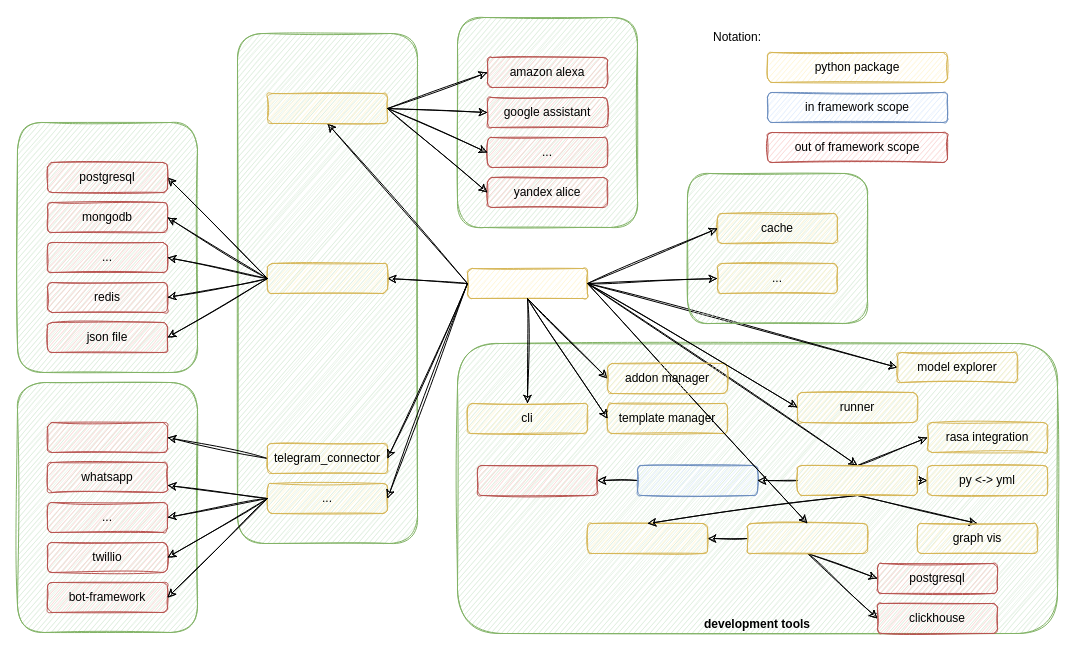
This 1075x651 diagram has some shape labels left out. The box of each missing label's shape, as (x1, y1, x2, y2) in pixels:
dashboard: (586, 522, 708, 554)
database for dialog context: (16, 122, 198, 372)
db_connector: (266, 262, 388, 294)
df designer: (636, 464, 758, 496)
dialog flow engine: (466, 268, 588, 298)
Integration addons: (236, 32, 418, 544)
py <-> json: (796, 464, 918, 496)
statistic collector: (746, 522, 868, 554)
telegram: (46, 422, 168, 452)
text message channel: (16, 382, 198, 632)
utils: (686, 172, 868, 324)
voice connector: (266, 92, 388, 124)
voice message channel: (456, 16, 638, 228)
vs code: (476, 464, 598, 496)
